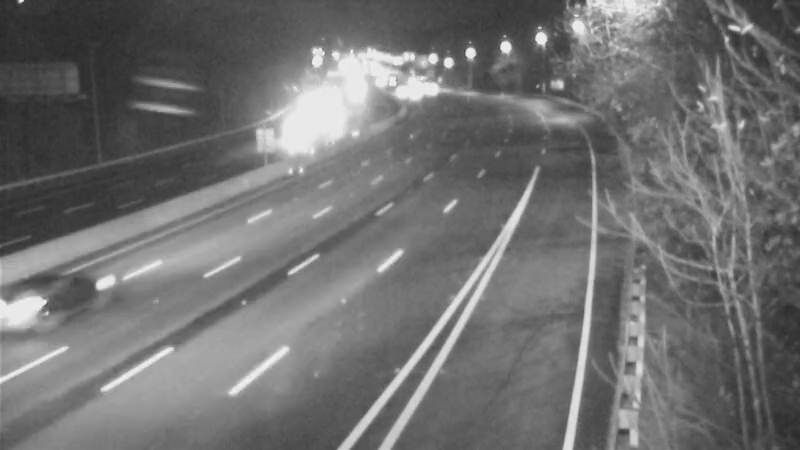vehicle: (1, 255, 93, 365), (271, 110, 321, 160)
